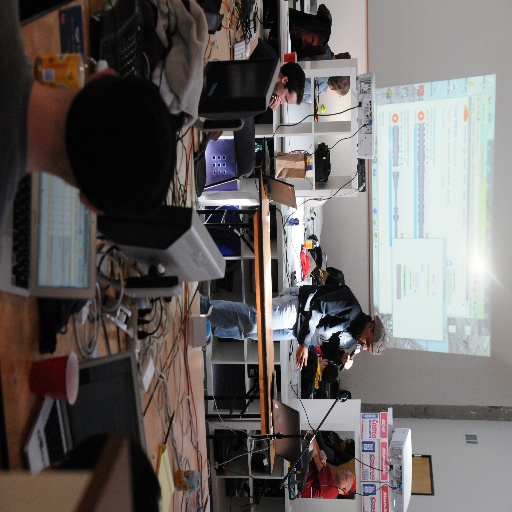hand: (294, 346, 308, 372), (268, 89, 283, 111), (341, 353, 352, 372), (319, 450, 327, 465)
